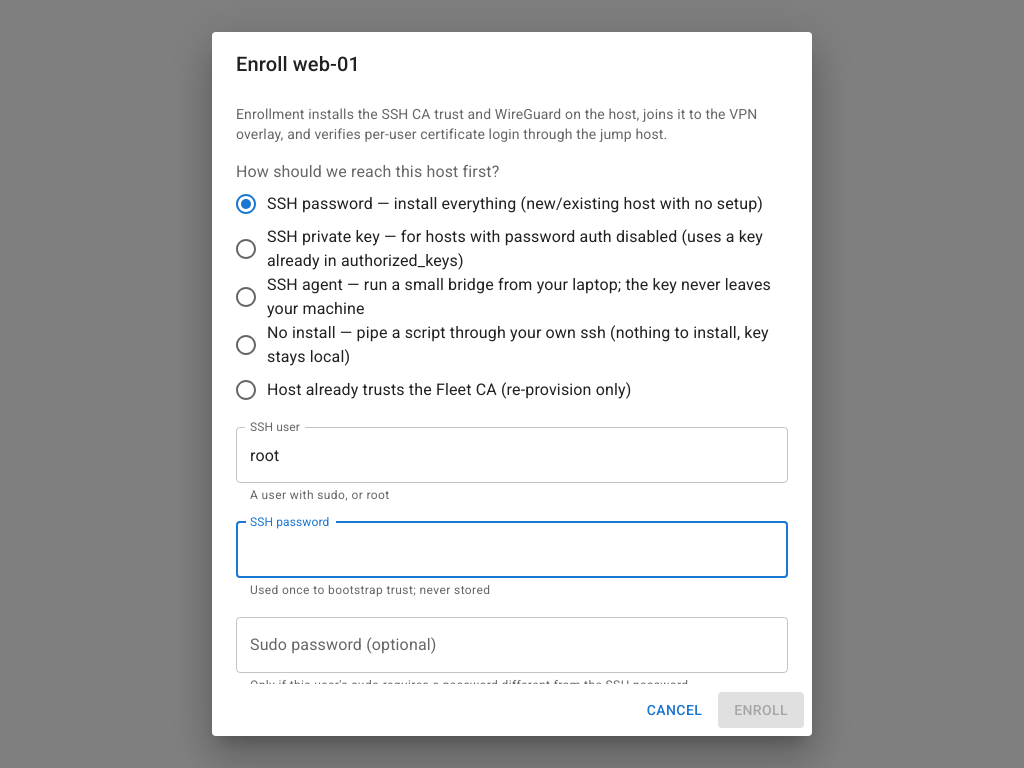
Test: EnrollCredsDialog bootstrap commands › tracks the SSH user and via-jump choice in the SSH-agent command
Step 1. Click the radio button labelled "SSH agent" → (498, 297), box [225,273,772,321]
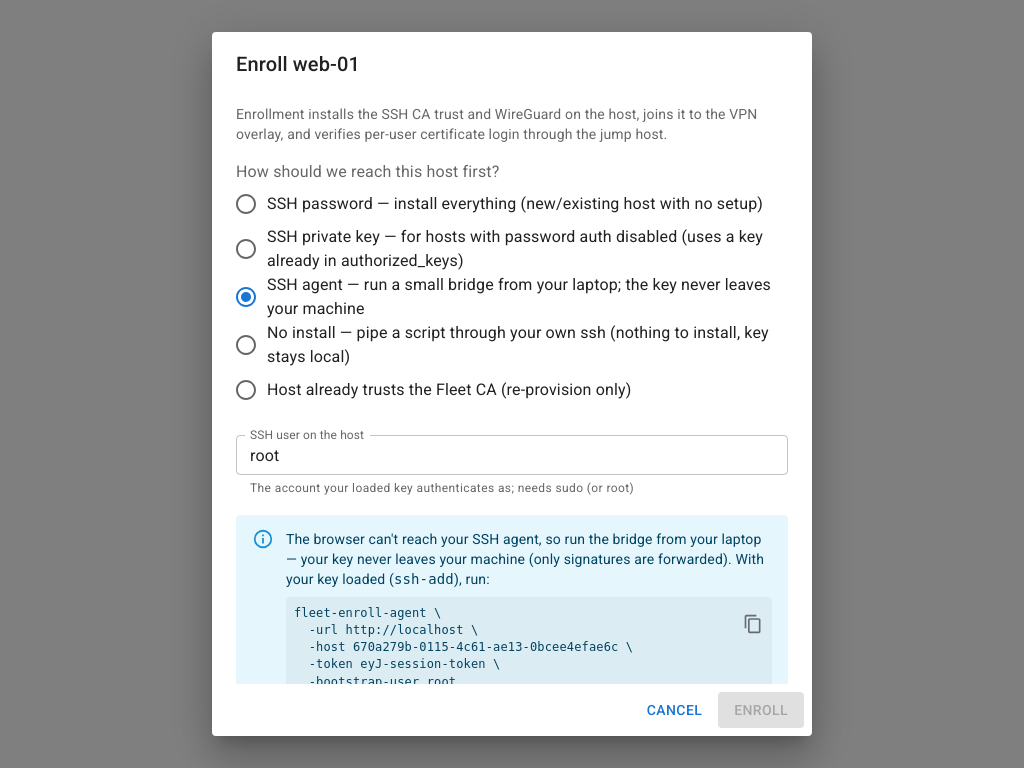
Step 2. Replace the text in the field labelled "SSH user on the host" with "opsadmin" → (512, 455), box [236,435,788,475]
(page scrolled)
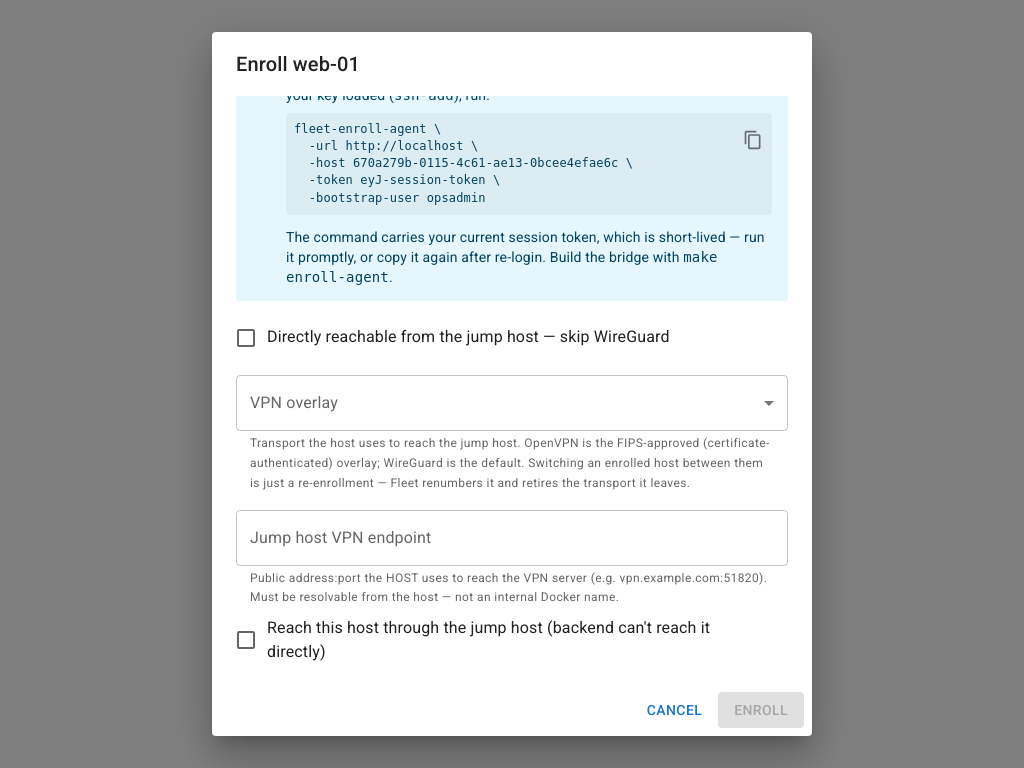
Step 3. Click the checkbox labelled "through the jump host" → (498, 640), box [225,616,772,664]
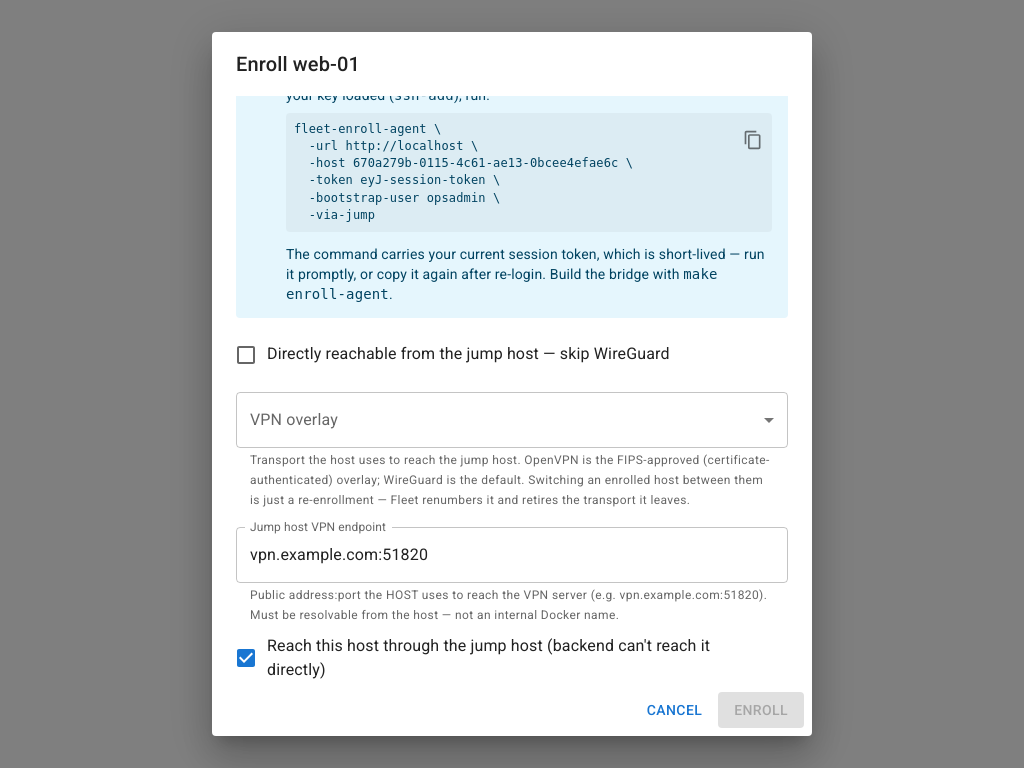
Expected: the text "fleet-enroll-agent" shows "-bootstrap-user opsadmin", [294,122,633,222]
Expected: the text "fleet-enroll-agent" shows "-via-jump", [294,122,633,222]
